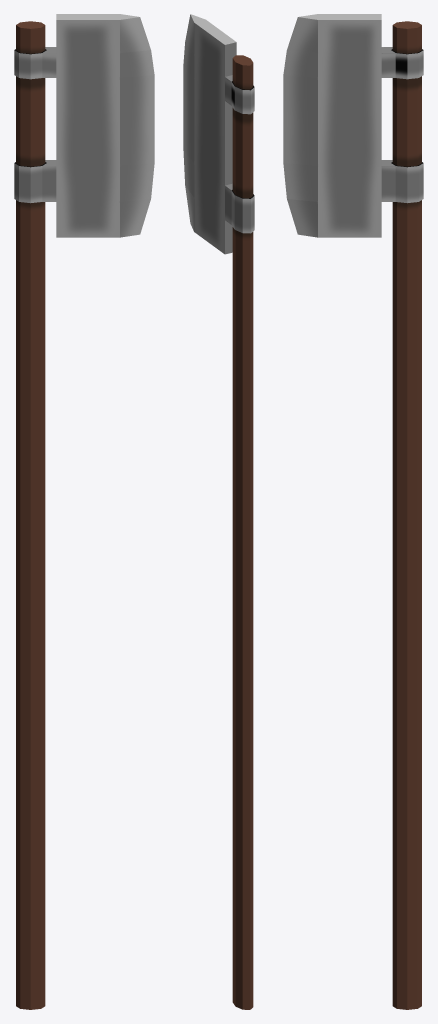
The model's file is Voulge.fbx.
3 renders of one model, left to right at view 1: azimuth 90°, elevation 25°; view 2: azimuth 210°, elevation 25°; view 3: azimuth 270°, elevation 25°, orthographic. The views are drawn at different scales.
Parts seen in each view (by area): view 1: Cylinder; view 2: Cylinder; view 3: Cylinder.
Part boxes in pixels (left/top/right/bottom): Cylinder: left=14, top=14, right=154, bottom=1009; Cylinder: left=183, top=14, right=254, bottom=1009; Cylinder: left=283, top=14, right=423, bottom=1009.
Size of the model in its own units: 0.05 by 2.72 by 0.35.
1 material, 1 textured.
